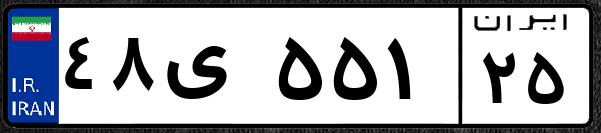1: (385, 28, 445, 110)
2: (475, 38, 525, 113)
4: (57, 26, 110, 100)
5: (270, 28, 330, 110), (330, 28, 385, 110), (525, 38, 570, 115)
8: (110, 28, 158, 98)
ی: (158, 20, 270, 120)
